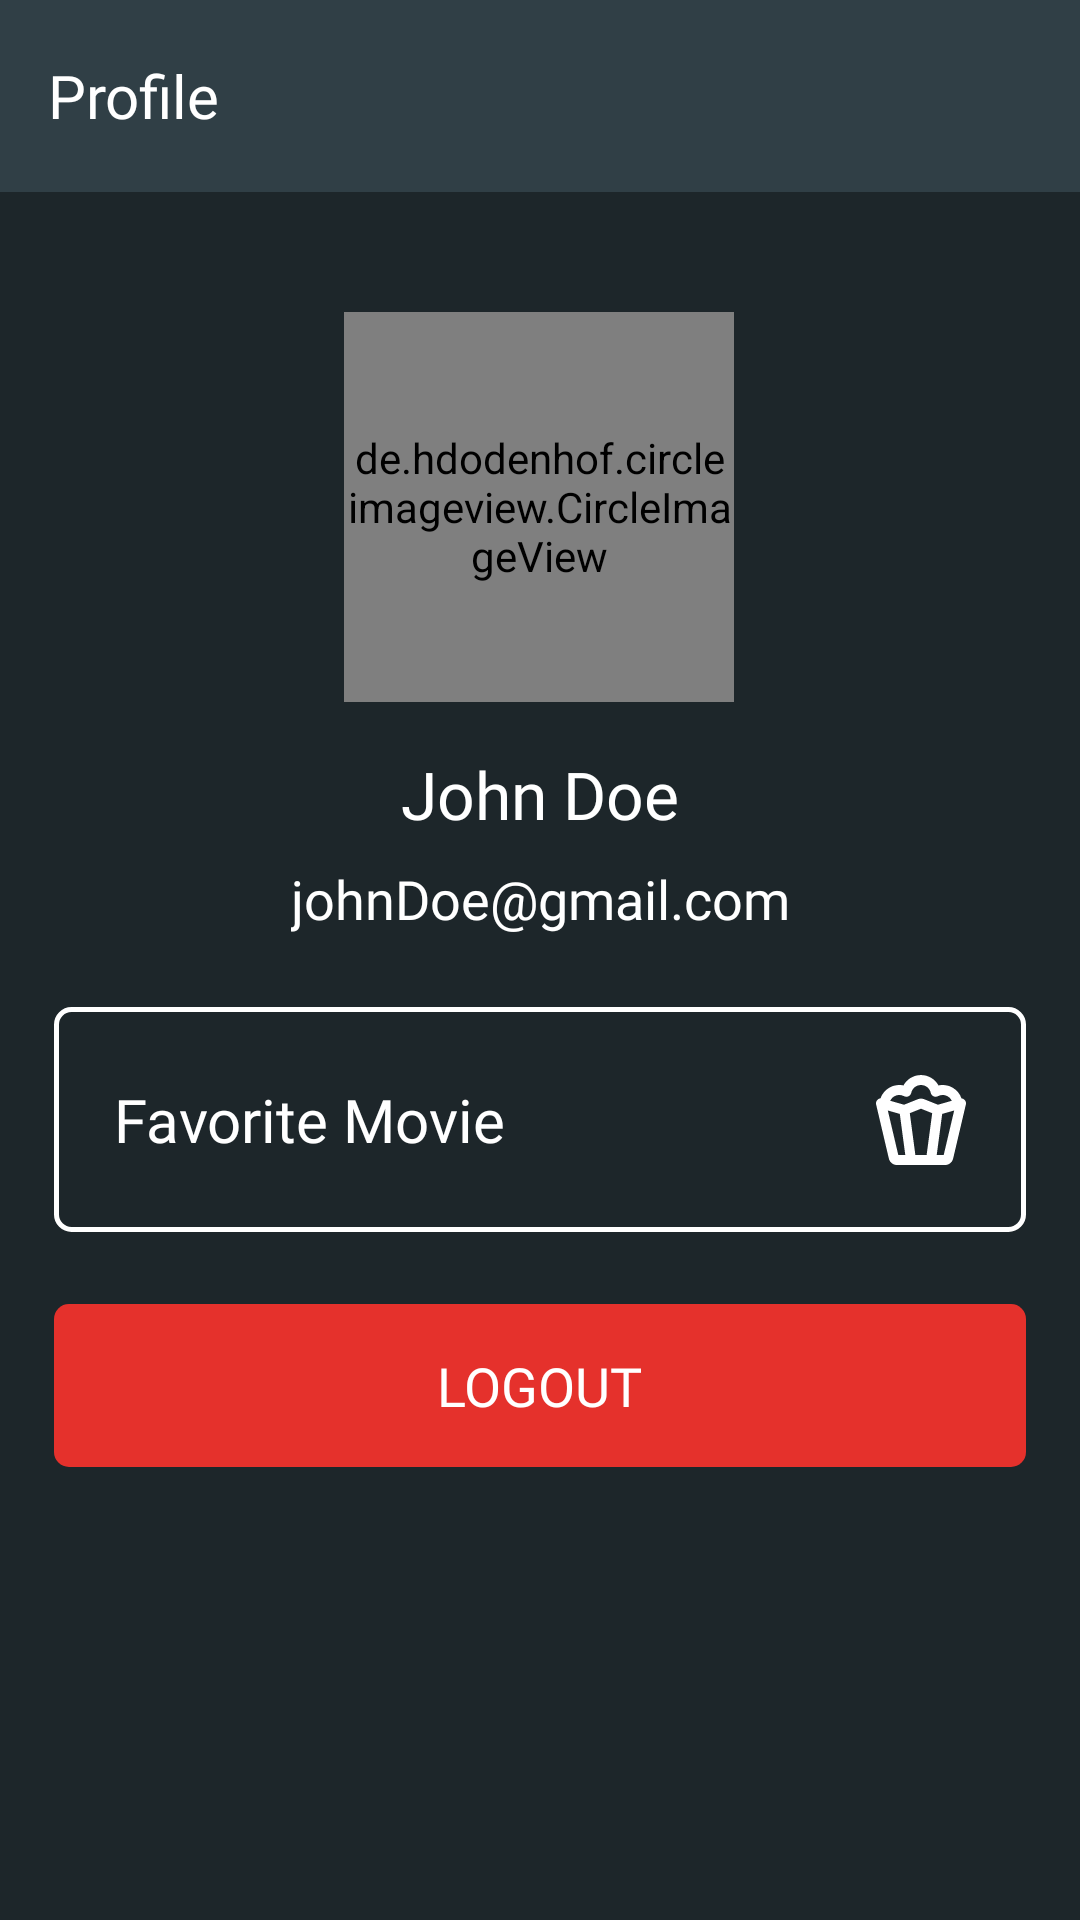

Where icons sit on this 1080×1920 app screen, as (x1, y1, x2, y2):
popcorn: (876, 1075, 966, 1165)
